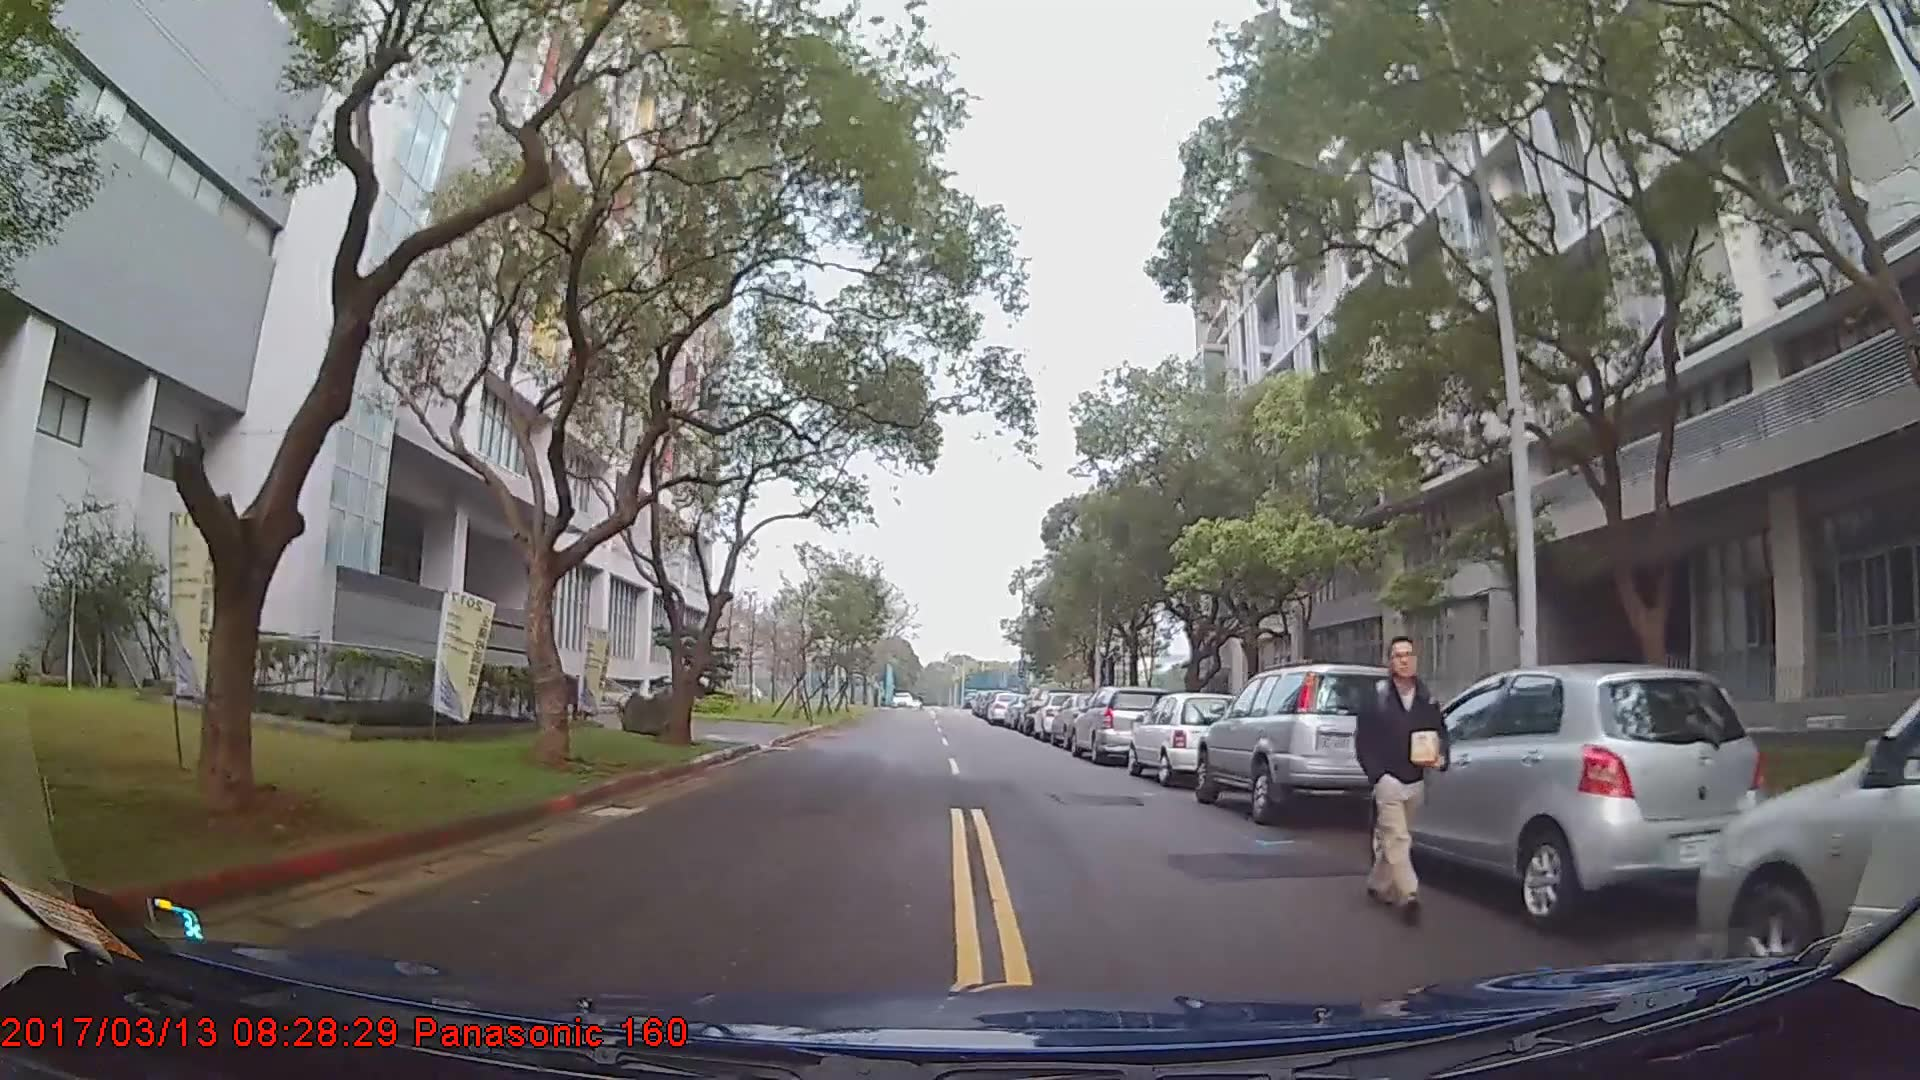pedestrian: (1361, 632, 1465, 921)
vehicle: (1369, 659, 1769, 928), (1696, 689, 1919, 994), (1195, 660, 1431, 823), (1125, 690, 1249, 785), (1071, 683, 1173, 763), (986, 688, 1025, 726)
